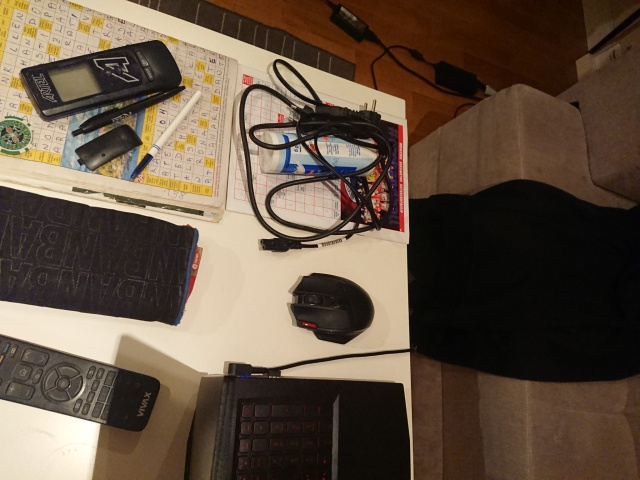Solana Pag Fine Sea Salt 250g: (255, 129, 380, 179)
